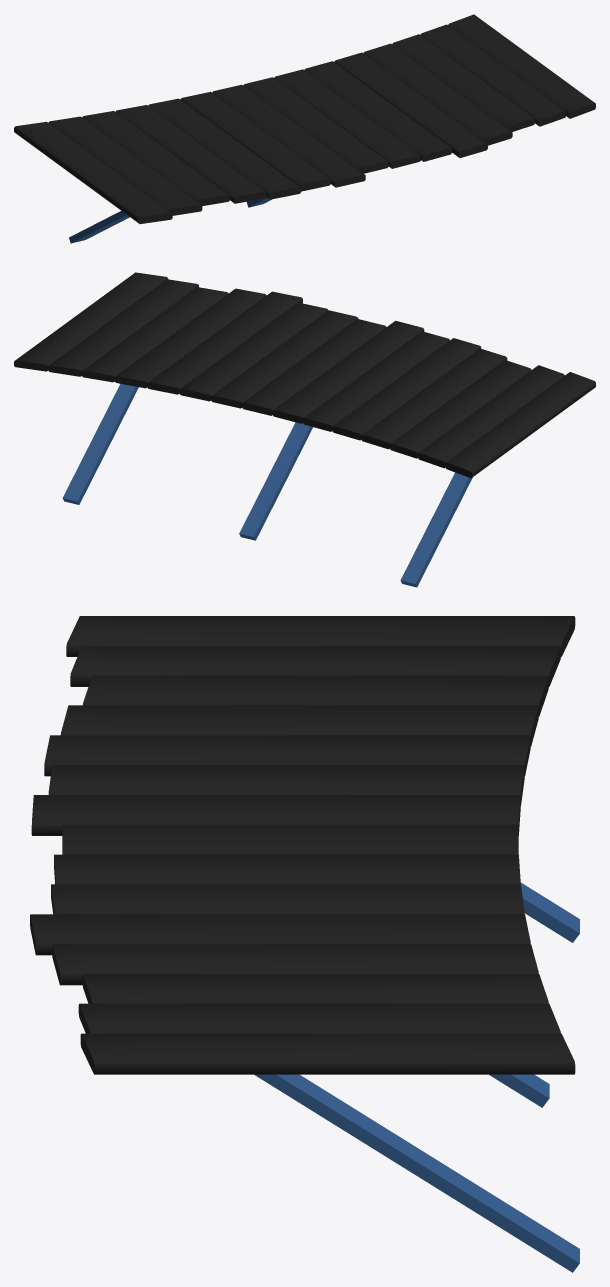
Rendered from Wooden Awning.fbx.
3 views of the same model, one above another, from view 1: azimuth 30°, elevation 25°; view 2: azimuth 150°, elevation 25°; view 3: azimuth 270°, elevation 25° (orthographic). The views are drawn at different scales.
Parts seen in each view (by area): view 1: Line002, Line003; view 2: Line002, Line003; view 3: Line002, Line003.
Part boxes in pixels (x1,y1,x2,y2): Line002: (14, 14, 595, 223); Line003: (69, 197, 271, 243); Line002: (14, 272, 595, 478); Line003: (62, 384, 472, 587); Line002: (30, 616, 575, 1074); Line003: (254, 882, 579, 1272).
Bounding box in the file's own units: 378 × 102 × 196.
